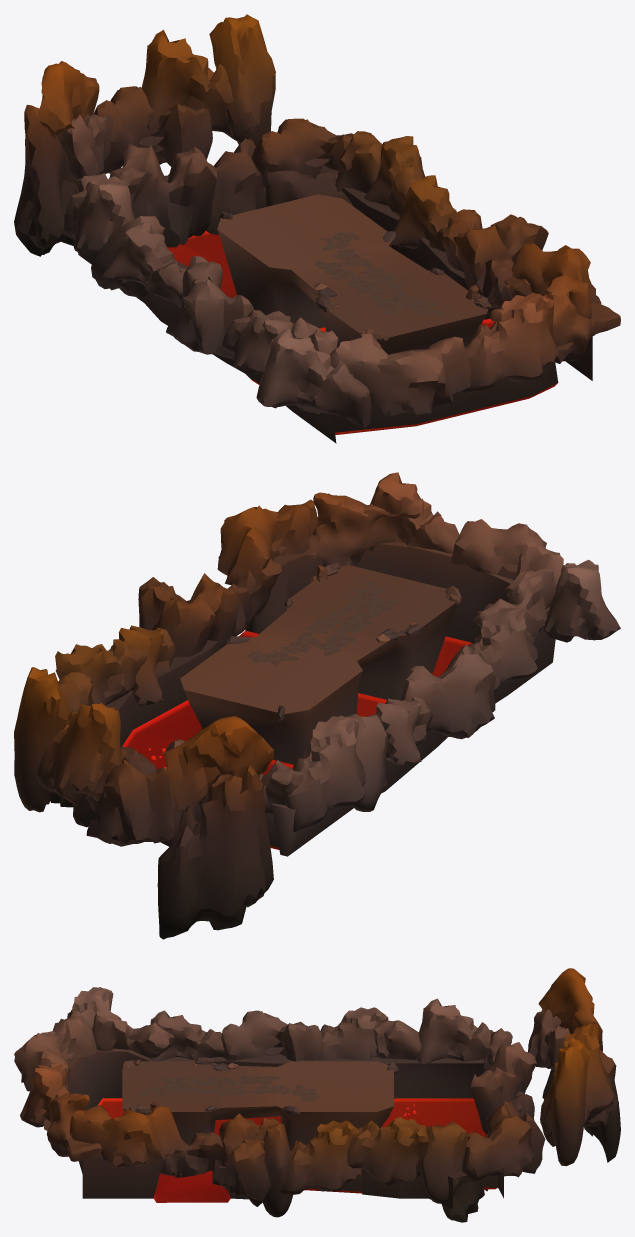
Rendered from LocationBlockout4.fbx.
The picture shows the model from 3 angles, top to bottom: view 1: azimuth 30°, elevation 25°; view 2: azimuth 150°, elevation 25°; view 3: azimuth 270°, elevation 25°; orthographic projection. The views are drawn at different scales.
Parts seen in each view (by area): view 1: Terrain; view 2: Terrain; view 3: Terrain.
Part boxes in pixels (<box>): Terrain: <box>14,14,620,443</box>; Terrain: <box>14,472,620,939</box>; Terrain: <box>14,968,620,1222</box>.
Size of the model in its own units: 8417 by 4591 by 14298.
